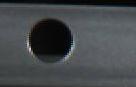holes: (27, 16, 77, 65)
